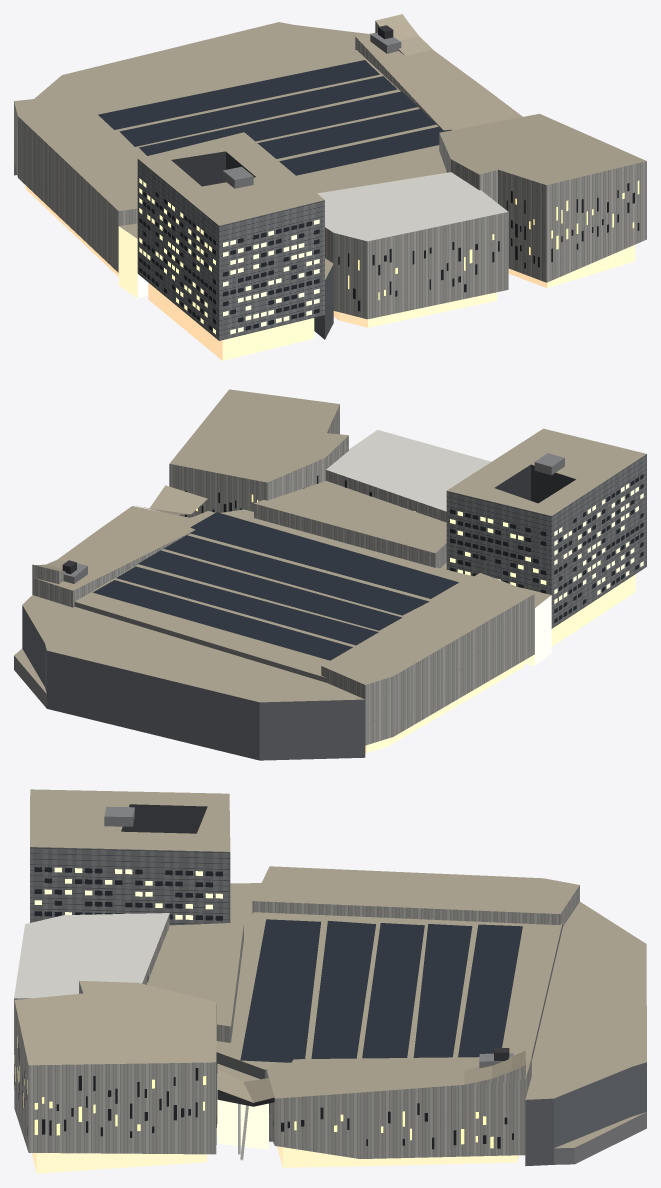
Rendered from emporium_mall.glb.
The picture shows the model from 3 angles, top to bottom: view 1: azimuth 30°, elevation 25°; view 2: azimuth 150°, elevation 25°; view 3: azimuth 270°, elevation 25°; orthographic projection. The views are drawn at different scales.
Visible parts, largest first — view 1: m_roof_concrete, m_mall_cladding, m_solar_panels, m_hotel_cladding, m_roof_white, m_ground_glazing, m_hotel_window, m_hotel_window_lit, m_slot_window, m_lightwell, m_entrance_glazing, m_rear_wall (+2 smaller); view 2: m_roof_concrete, m_solar_panels, m_mall_cladding, m_dark_end_block, m_hotel_cladding, m_roof_white, m_hotel_window, m_ground_glazing, m_rear_wall, m_hotel_window_lit, m_lightwell, m_entrance_glazing; view 3: m_roof_concrete, m_mall_cladding, m_solar_panels, m_hotel_cladding, m_roof_white, m_dark_end_block, m_ground_glazing, m_rear_wall, m_entrance_glazing, m_lightwell, m_hotel_window, m_slot_window (+3 smaller).
Boxes of the visible parts, x1=… form: m_roof_concrete: x1=14, y1=14, x2=646, y2=279; m_mall_cladding: x1=14, y1=21, x2=646, y2=319; m_solar_panels: x1=98, y1=60, x2=451, y2=175; m_hotel_cladding: x1=137, y1=159, x2=324, y2=340; m_roof_white: x1=317, y1=172, x2=508, y2=241; m_ground_glazing: x1=24, y1=184, x2=635, y2=360; m_hotel_window: x1=139, y1=191, x2=319, y2=330; m_hotel_window_lit: x1=139, y1=178, x2=319, y2=334; m_slot_window: x1=338, y1=171, x2=639, y2=311; m_lightwell: x1=171, y1=151, x2=255, y2=186; m_entrance_glazing: x1=118, y1=226, x2=148, y2=298; m_rear_wall: x1=222, y1=32, x2=401, y2=188; m_roof_concrete: x1=14, y1=389, x2=646, y2=702; m_solar_panels: x1=93, y1=512, x2=458, y2=660; m_mall_cladding: x1=32, y1=404, x2=534, y2=745; m_dark_end_block: x1=22, y1=605, x2=365, y2=760; m_hotel_cladding: x1=446, y1=454, x2=646, y2=628; m_roof_white: x1=326, y1=430, x2=491, y2=511; m_hotel_window: x1=450, y1=474, x2=643, y2=623; m_ground_glazing: x1=365, y1=574, x2=635, y2=753; m_rear_wall: x1=14, y1=453, x2=564, y2=708; m_hotel_window_lit: x1=450, y1=483, x2=643, y2=603; m_lightwell: x1=494, y1=464, x2=575, y2=503; m_entrance_glazing: x1=524, y1=595, x2=551, y2=665; m_roof_concrete: x1=14, y1=789, x2=646, y2=1148; m_mall_cladding: x1=14, y1=885, x2=579, y2=1158; m_solar_panels: x1=240, y1=919, x2=522, y2=1062; m_hotel_cladding: x1=30, y1=847, x2=230, y2=925; m_roof_white: x1=14, y1=913, x2=169, y2=998; m_dark_end_block: x1=525, y1=1062, x2=646, y2=1166; m_ground_glazing: x1=31, y1=1146, x2=518, y2=1173; m_rear_wall: x1=104, y1=806, x2=646, y2=1164; m_entrance_glazing: x1=217, y1=1074, x2=268, y2=1149; m_lightwell: x1=121, y1=804, x2=207, y2=833; m_hotel_window: x1=34, y1=867, x2=222, y2=920; m_slot_window: x1=14, y1=929, x2=513, y2=1149.
Bounding box in the file's own units: 181 × 60.06 × 208.
16 materials, 2 textured.
